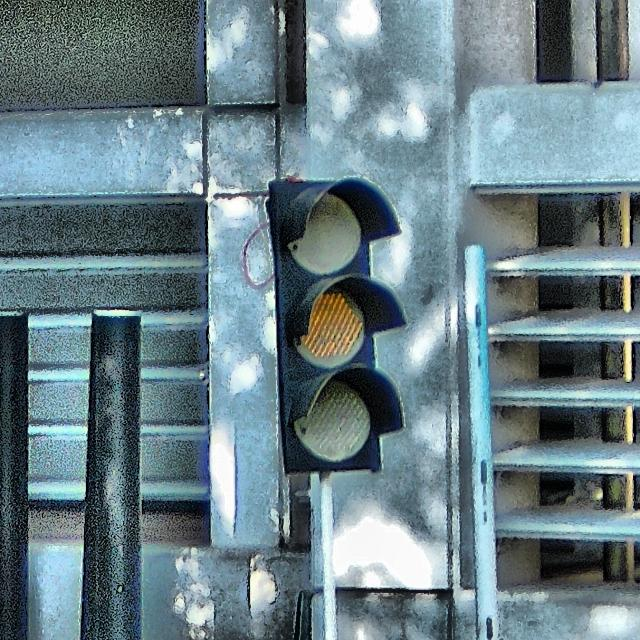yellow: (268, 179, 401, 474)
